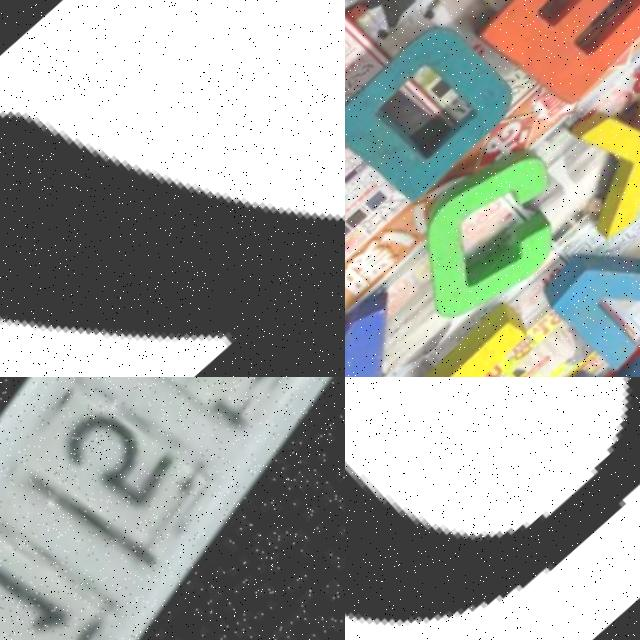1: (0, 520, 103, 640)
5: (33, 377, 201, 534)
7: (0, 0, 345, 377)
C: (389, 123, 601, 335)
D: (345, 0, 538, 218)
E: (466, 0, 640, 120)
G: (345, 377, 640, 640)
L: (403, 297, 580, 377)
N: (345, 260, 451, 377)
P: (552, 290, 640, 377)
V: (541, 200, 640, 376)
X: (539, 26, 640, 250)
